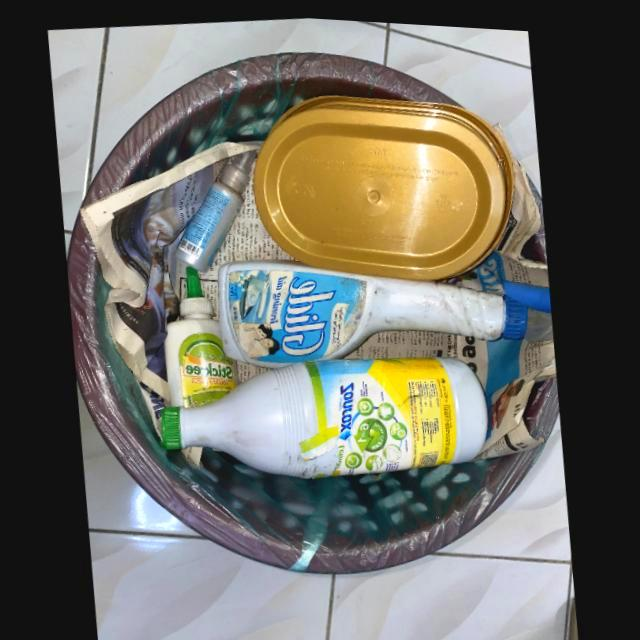paper: (83, 132, 266, 436), (348, 323, 558, 454), (452, 113, 550, 287), (201, 177, 297, 309)
plastic_bottle: (161, 350, 491, 474), (218, 256, 555, 364), (175, 146, 259, 270), (165, 263, 238, 405)
plastic_container: (252, 88, 513, 275)
